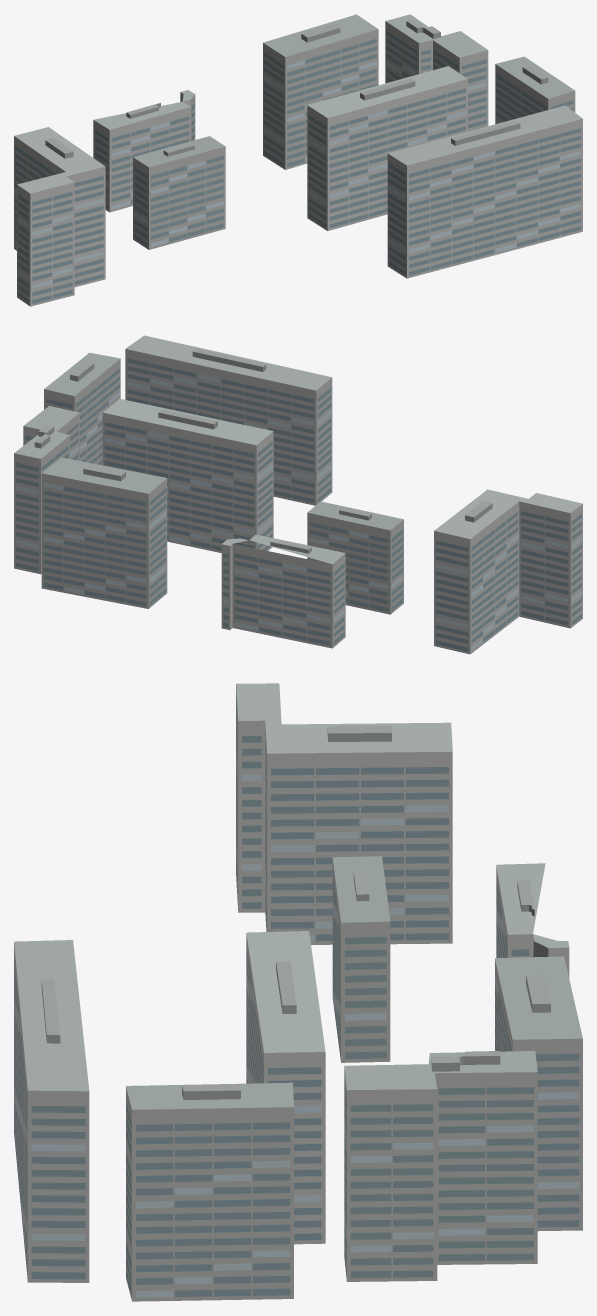
Rendered from apt-a13203403.glb.
3 renders of one model, top to bottom at view 1: azimuth 30°, elevation 25°; view 2: azimuth 150°, elevation 25°; view 3: azimuth 270°, elevation 25°, orthographic. The views are drawn at different scales.
Parts seen in each view (by area): view 1: apt-a13203403; view 2: apt-a13203403; view 3: apt-a13203403.
Part boxes in pixels (x1,y1,x2,y2): apt-a13203403: (14, 14, 582, 306); apt-a13203403: (14, 335, 582, 654); apt-a13203403: (14, 683, 582, 1301).
Size of the model in its own units: 218 by 47.81 by 123.
